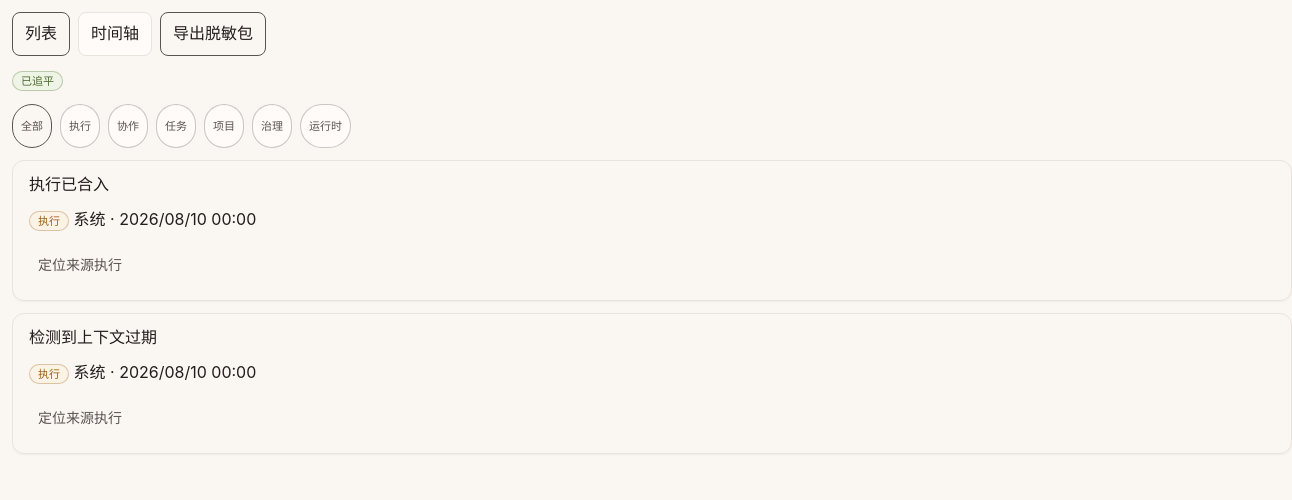
Test case: Audit panel › locates the source execution heading and reports when it is not rendered
This screenshot has width=1292, height=500.
Click the button "定位来源执行" below "执行已合入": (80, 266) [29,244,131,288]
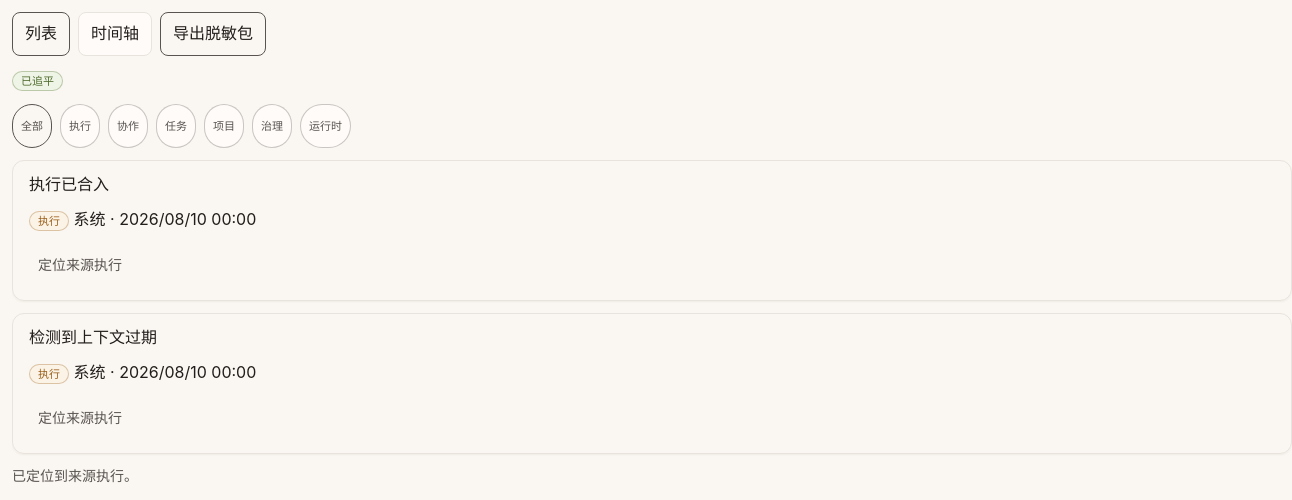
Check: the message reads "已定位到来源执行。", box [12,467,138,484]
Click the button "定位来源执行" below "检测到上下文过期": (80, 419) [29,397,131,441]
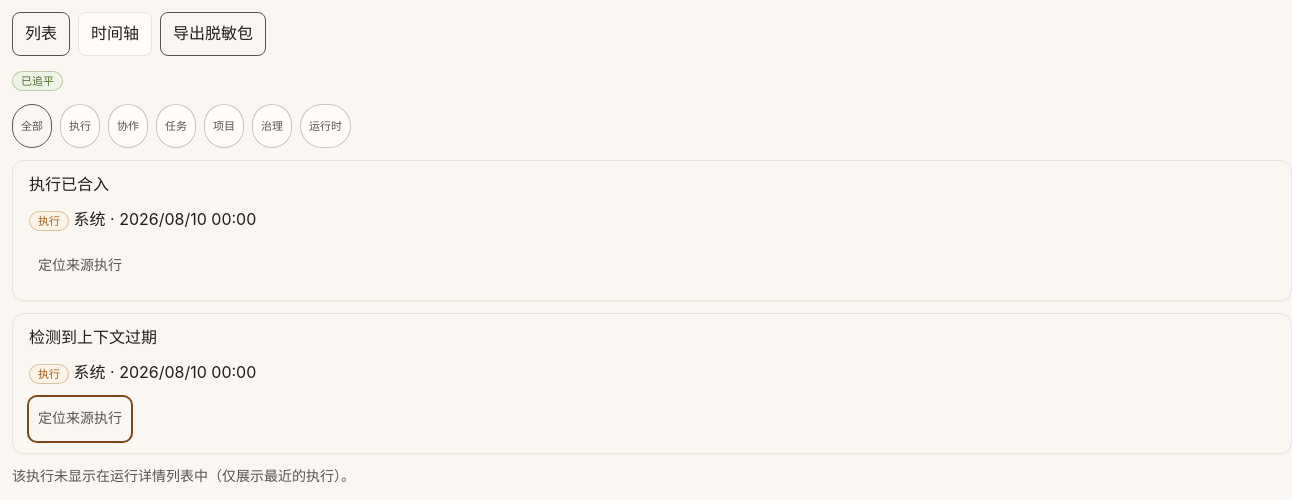
Check: the message reads "该执行未显示在运行详情列表中（仅展示最近的执行）。", box [12,467,355,484]
